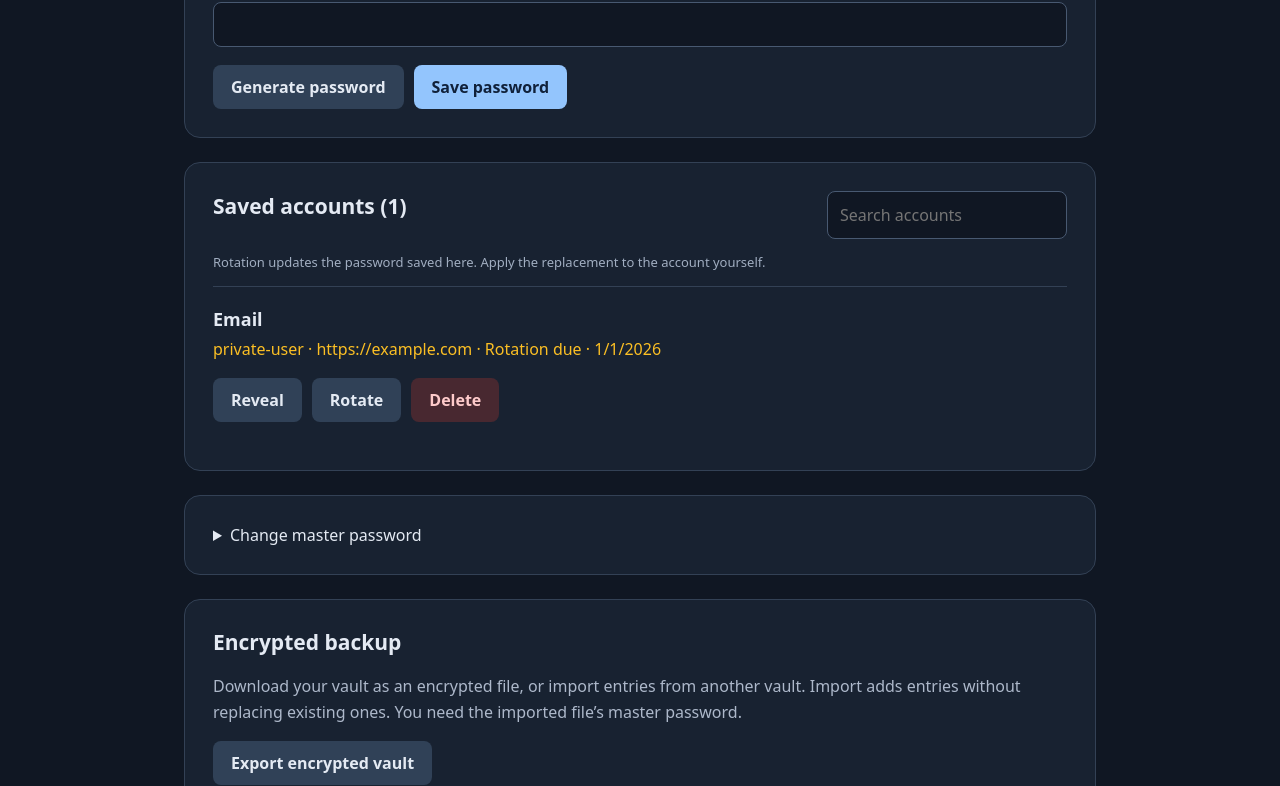
vault workflows › requires confirmation to delete a saved account
(page scrolled)
Step 1. Click the button "Delete" → [455, 400], box x1=411 y1=378 x2=499 y2=422
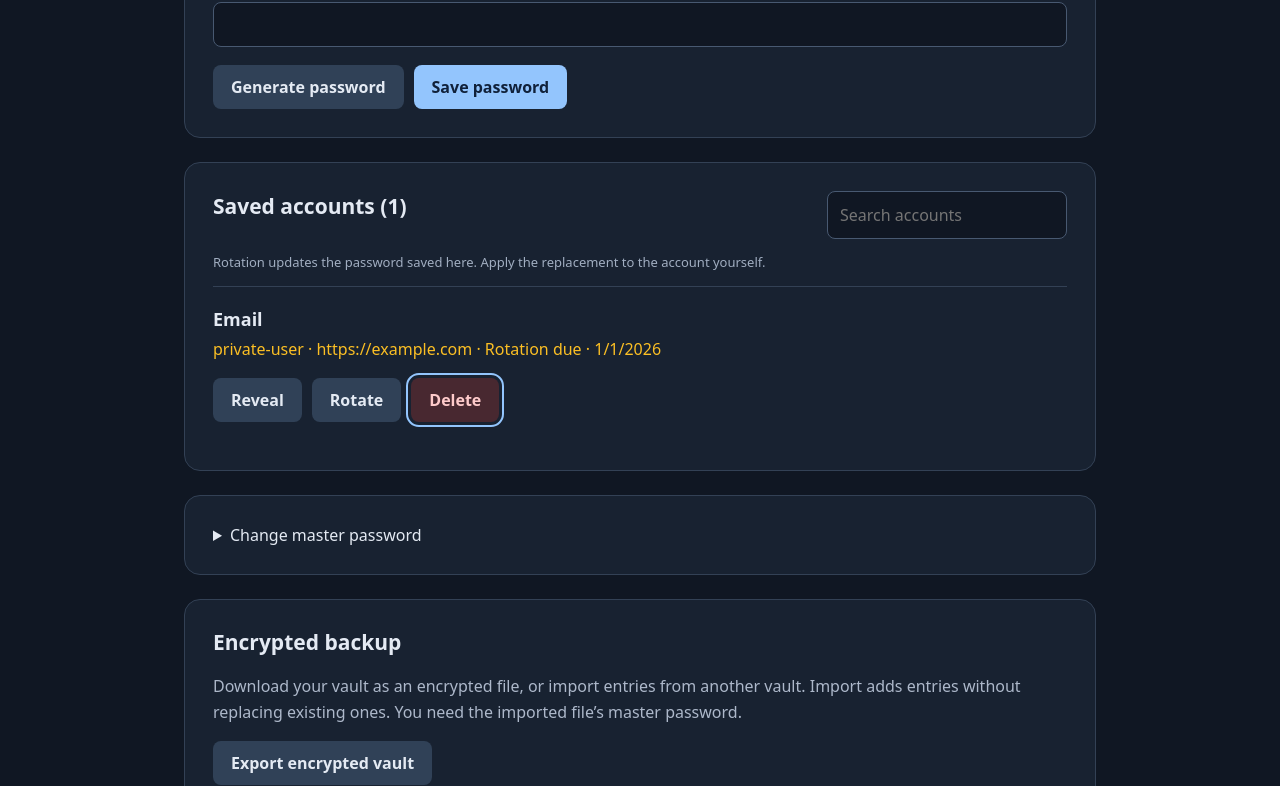
Step 2. Click the button "Delete" → [455, 400], box x1=411 y1=378 x2=499 y2=422
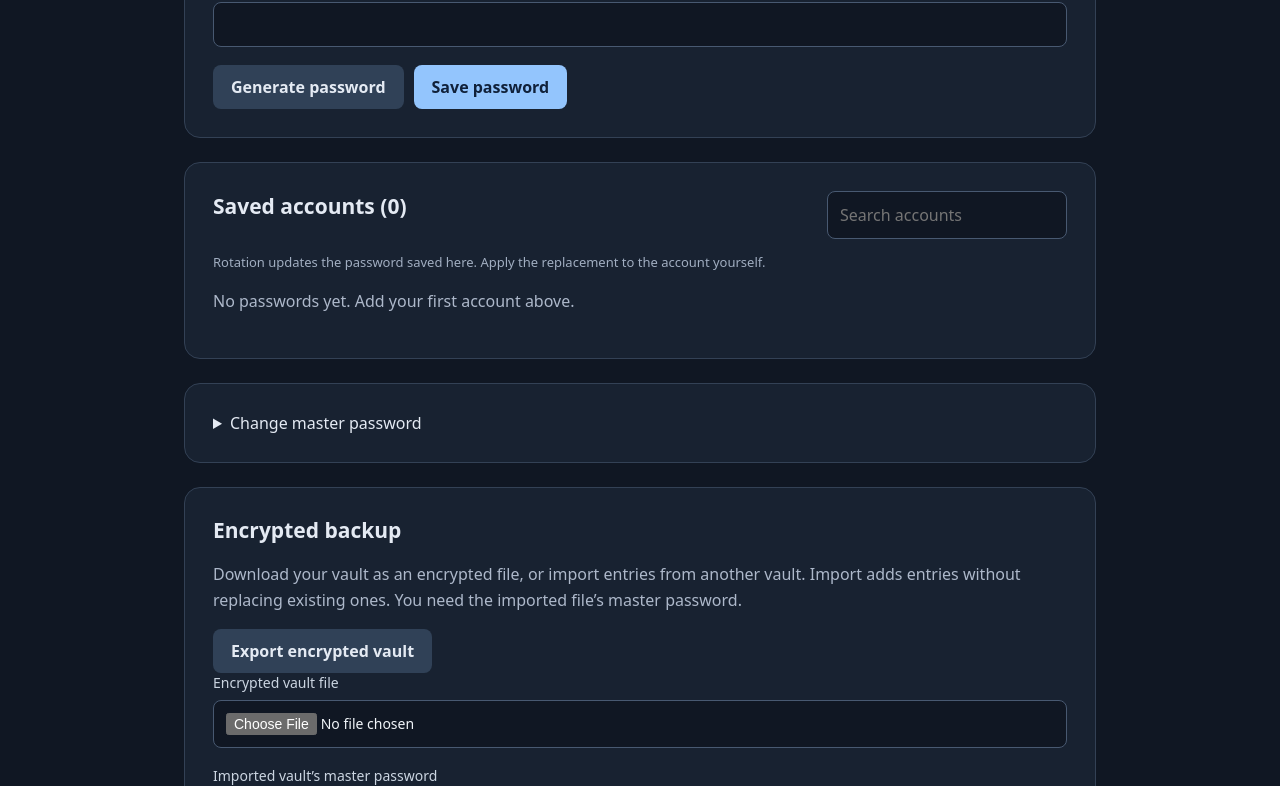
expect the text "No passwords yet. Add your first account above." is shown: met, box x1=213 y1=290 x2=574 y2=312
